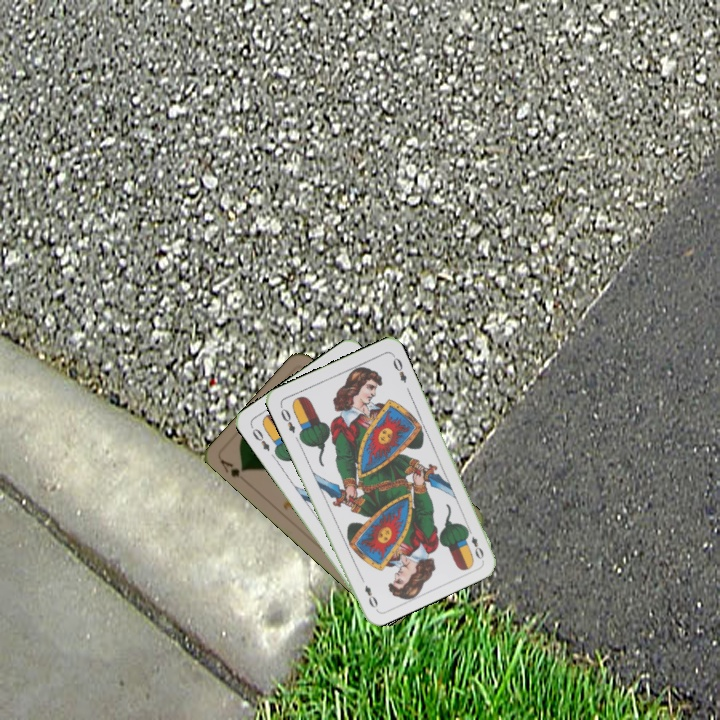EO: (462, 524, 486, 562), (247, 422, 273, 454), (276, 402, 298, 436)
GA: (216, 455, 248, 480)
